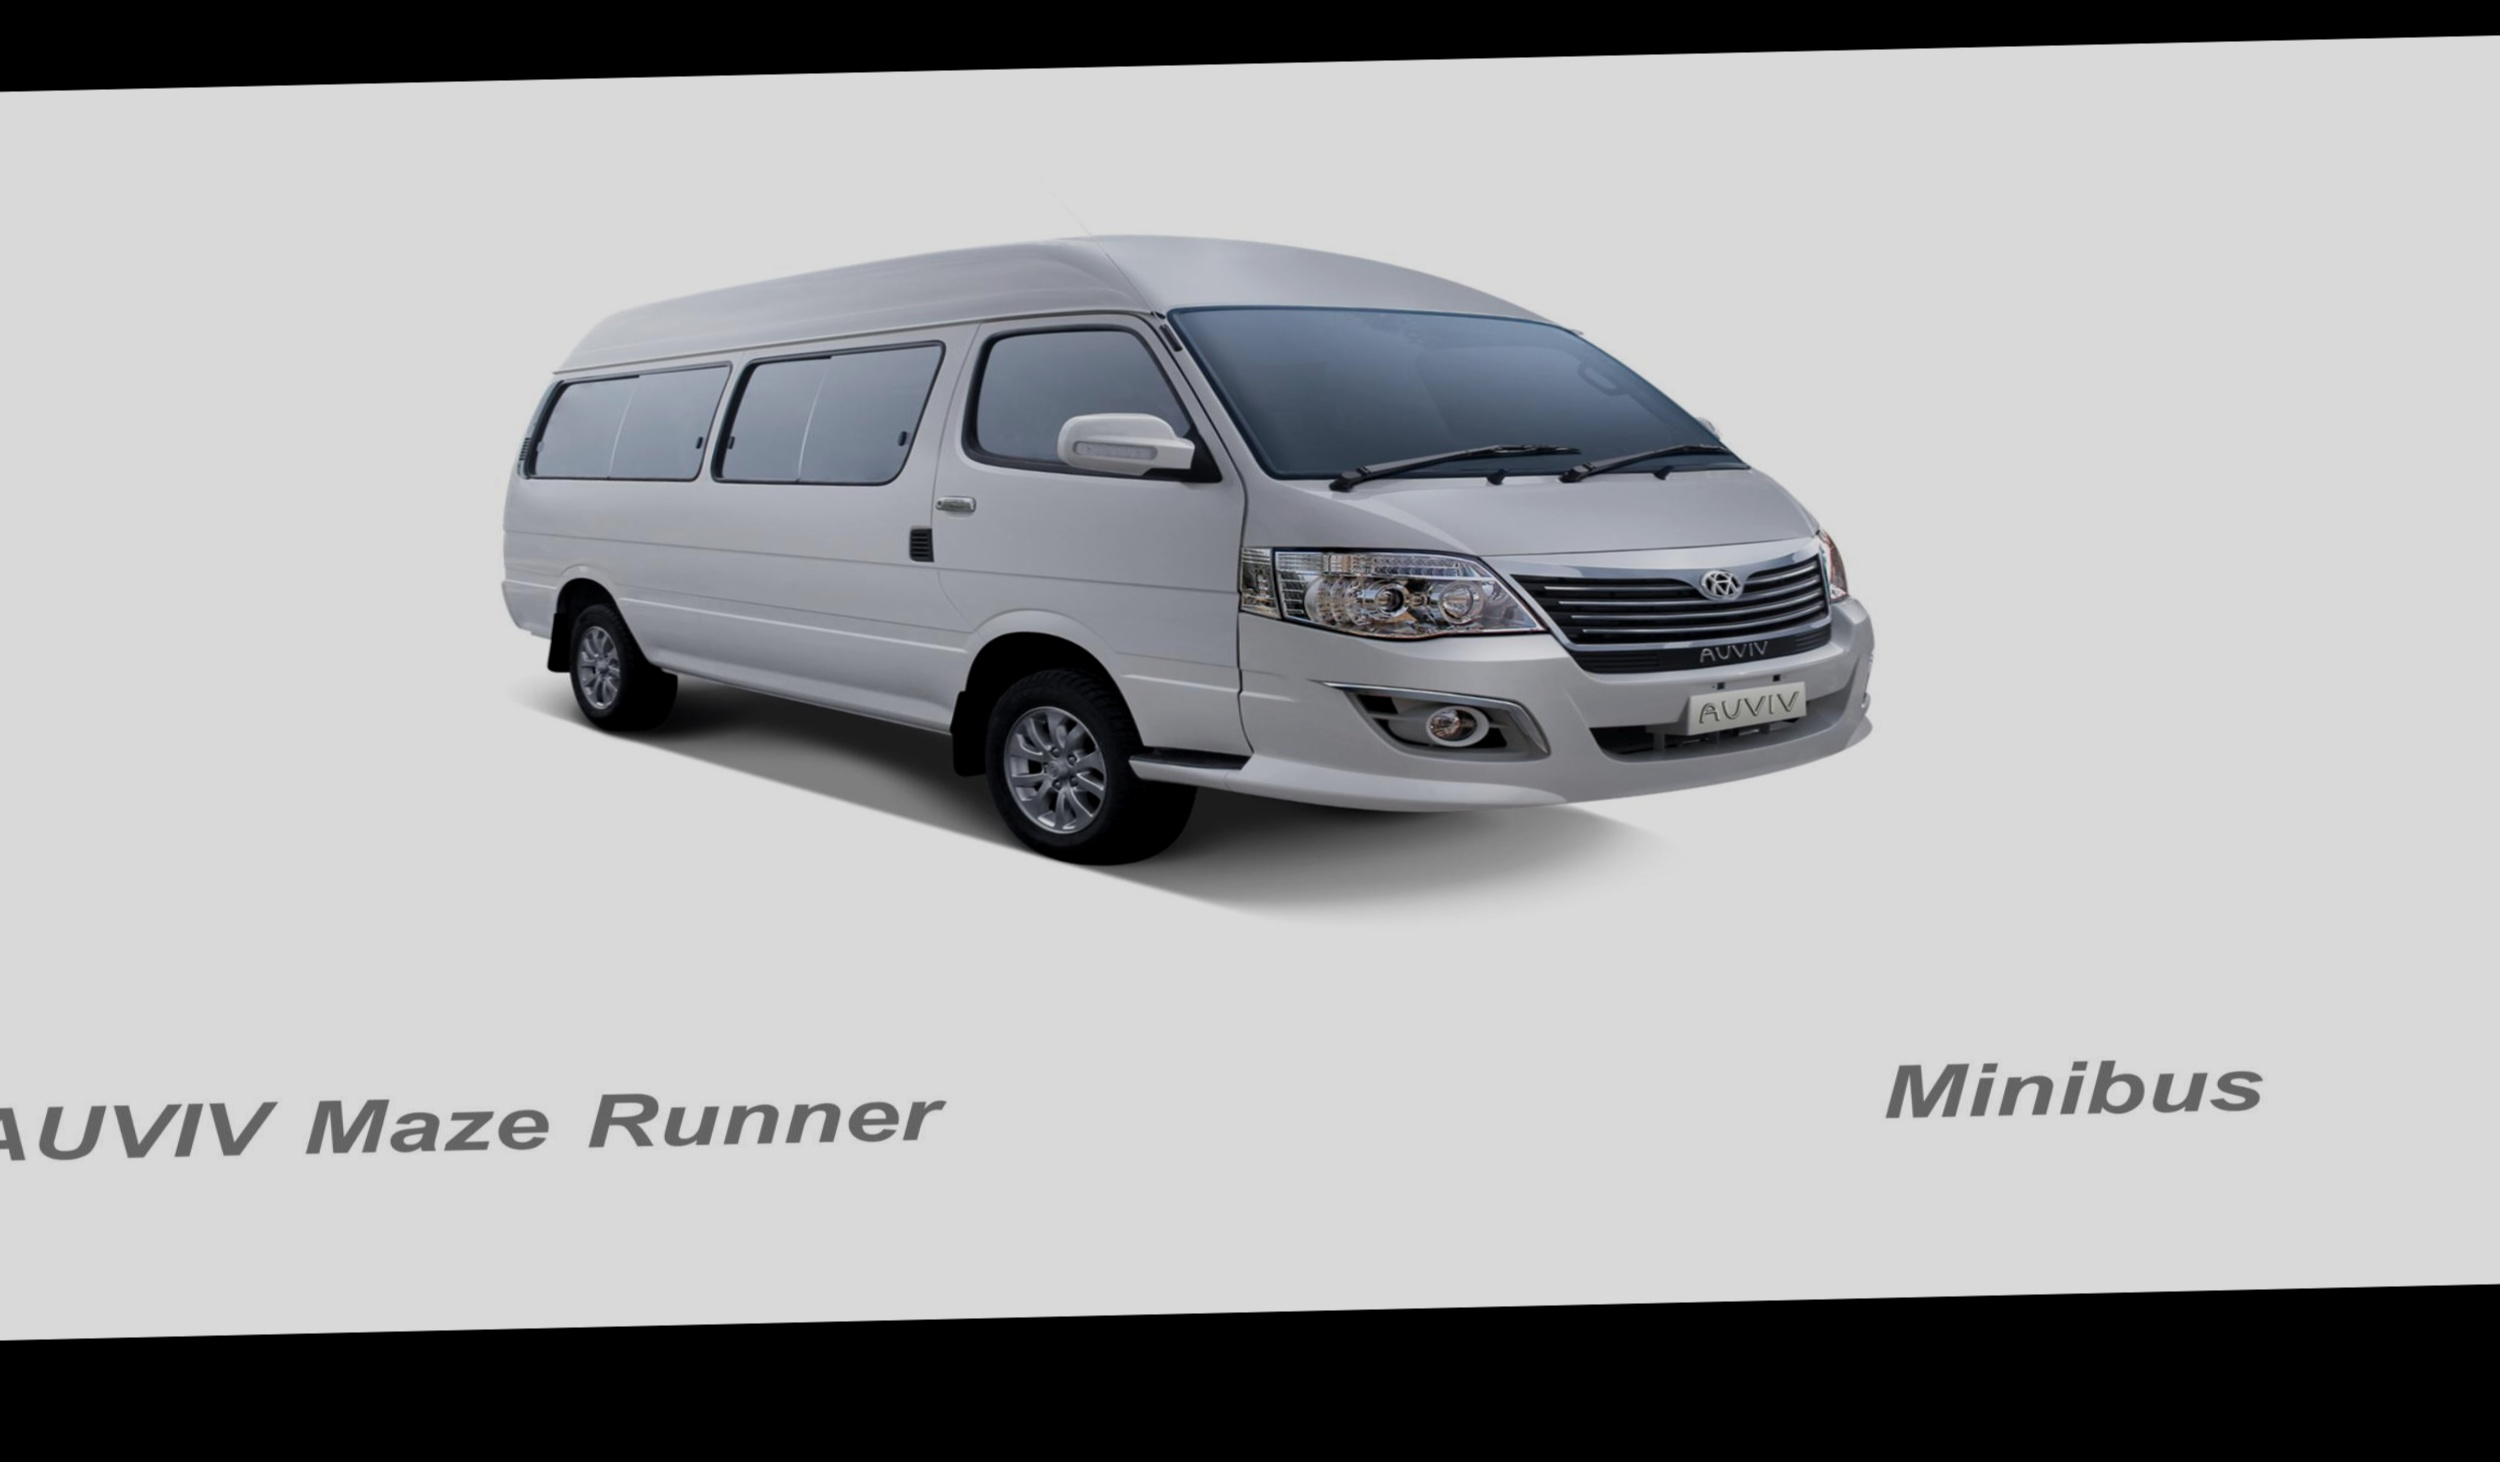van: (465, 147, 1926, 909)
